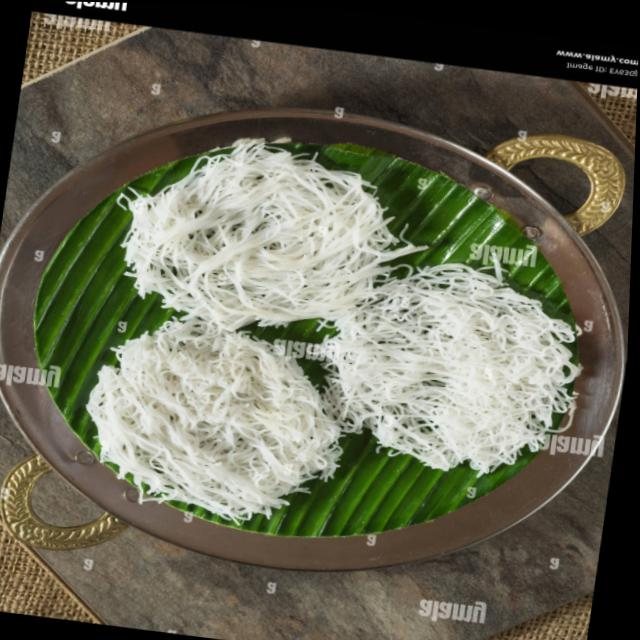IDIYAPPAM: (86, 141, 576, 520)
